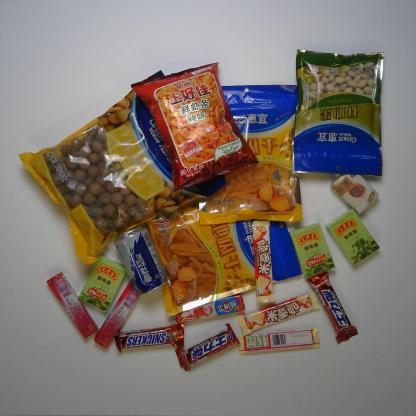Alcohol: (113, 225, 168, 295)
Candy: (92, 280, 143, 350), (47, 272, 99, 338), (75, 254, 127, 313), (326, 209, 379, 266), (289, 222, 336, 279), (175, 294, 247, 324)
Chocolate: (236, 290, 321, 336), (306, 270, 358, 344), (174, 322, 242, 374), (237, 327, 321, 358), (251, 219, 277, 304), (114, 323, 186, 351)
Dried Food: (17, 69, 229, 266)
Dried Fruit: (147, 182, 304, 317), (195, 84, 304, 226), (292, 49, 386, 178)
Puffed Food: (130, 61, 260, 193)
Tissue: (331, 166, 379, 214)
